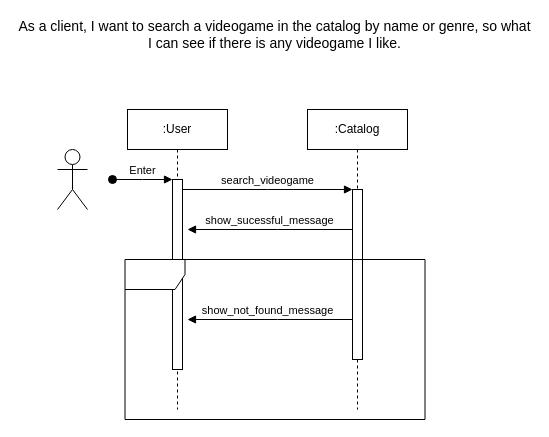
The diagram is 549 pixels wide and 437 high, and some of its shapes have lost their labels. The shapes that lost their labels are listed below. From the top down, each one's box as (x1, y1, x2, y2) in pixels, then its label:
(56, 148, 88, 210): Actor
(124, 258, 425, 420): else
